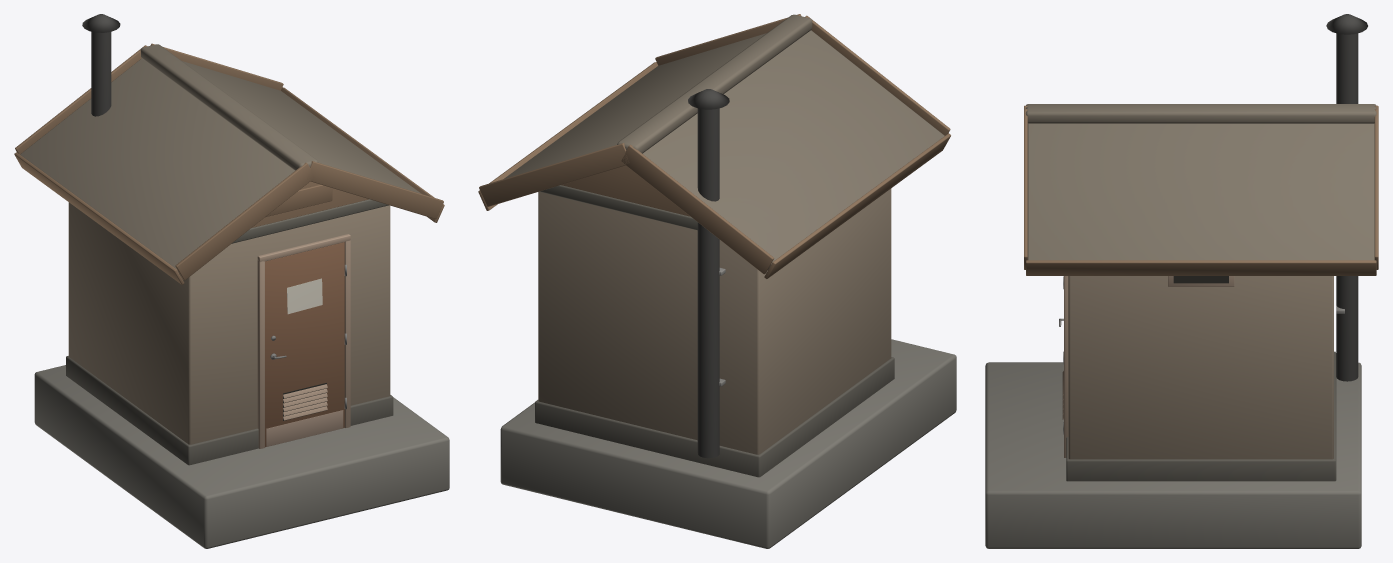
Rendered from vault_toilet.glb.
3 views of the same model, side by side, from view 1: azimuth 30°, elevation 25°; view 2: azimuth 150°, elevation 25°; view 3: azimuth 270°, elevation 25° (orthographic). The views are drawn at different scales.
Parts seen in each view (by area): view 1: g_block, g_shingle, g_pad, g_steel, g_brown_along, g_concrete, g_vent_pipe, g_brown, g_paper; view 2: g_block, g_shingle, g_pad, g_brown_along, g_concrete, g_vent_pipe, g_brown; view 3: g_shingle, g_block, g_pad, g_brown_along, g_concrete, g_vent_pipe, g_steel.
Part boxes in pixels (x1,y1,x2,y2): g_block: [68, 202, 390, 444]; g_shingle: [20, 44, 421, 275]; g_pad: [34, 365, 449, 548]; g_steel: [257, 234, 350, 448]; g_brown_along: [14, 43, 444, 284]; g_concrete: [66, 199, 393, 465]; g_vent_pipe: [82, 14, 120, 116]; g_brown: [252, 181, 368, 227]; g_paper: [287, 278, 322, 314]; g_block: [538, 188, 891, 454]; g_shingle: [504, 14, 944, 269]; g_pad: [500, 339, 956, 548]; g_brown_along: [478, 14, 950, 278]; g_concrete: [535, 185, 894, 477]; g_vent_pipe: [688, 89, 729, 458]; g_brown: [561, 165, 690, 216]; g_shingle: [1026, 104, 1376, 260]; g_block: [1068, 276, 1333, 459]; g_pad: [985, 362, 1361, 548]; g_brown_along: [1024, 105, 1378, 275]; g_concrete: [1066, 351, 1336, 481]; g_vent_pipe: [1326, 14, 1367, 381]; g_steel: [1062, 276, 1234, 457].
Bounding box in the file's own units: 3.09 × 4.35 × 3.55.
